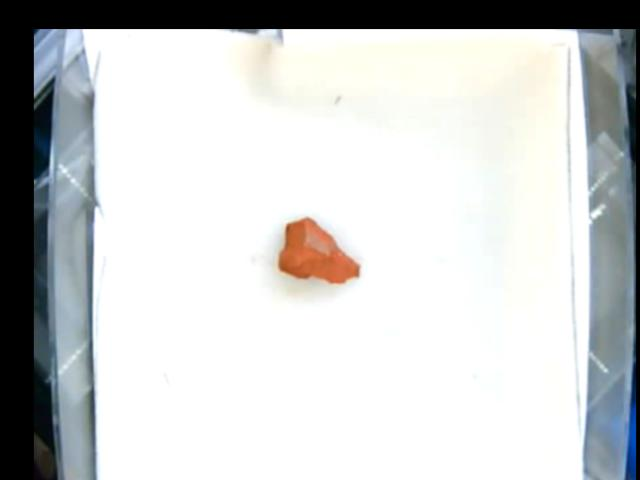Brisk: (276, 217, 362, 283)
